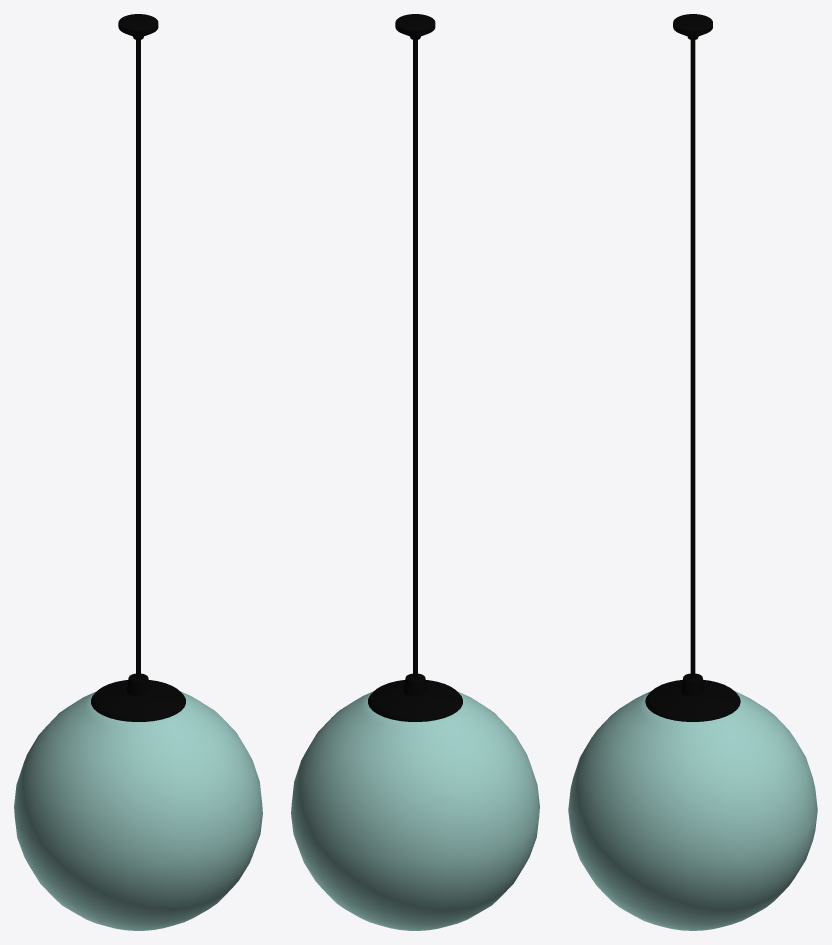
The model's file is DEC_glass_pendant_lamp.FBX.
3 views of the same model, side by side, from view 1: azimuth 30°, elevation 25°; view 2: azimuth 150°, elevation 25°; view 3: azimuth 270°, elevation 25° (orthographic).
Visible parts, largest first — view 1: DEC_glass_pendant_lamp; view 2: DEC_glass_pendant_lamp; view 3: DEC_glass_pendant_lamp.
Part boxes in pixels (<box>): DEC_glass_pendant_lamp: <box>14,14,262,930</box>; DEC_glass_pendant_lamp: <box>291,14,539,930</box>; DEC_glass_pendant_lamp: <box>568,14,817,930</box>.
Size of the model in its own units: 36.27 by 36.27 by 144.
